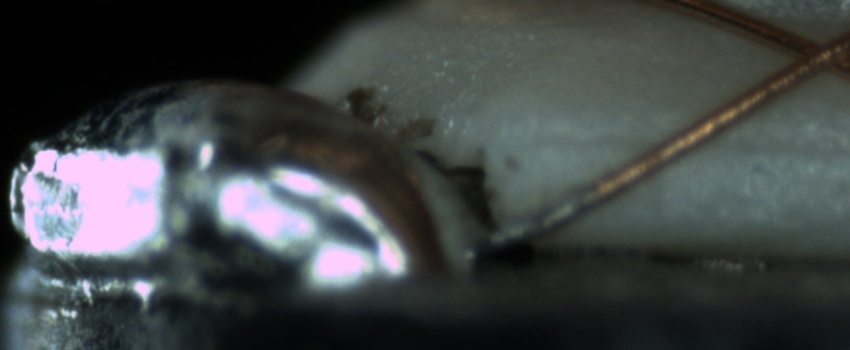CL: (767, 22, 847, 89)
DL: (525, 109, 850, 173)
TS: (492, 188, 589, 249)
